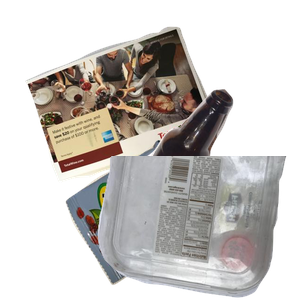glass: (130, 87, 300, 267)
paper: (23, 24, 232, 199)
plastic: (95, 156, 300, 300)
trash: (63, 137, 289, 300)
